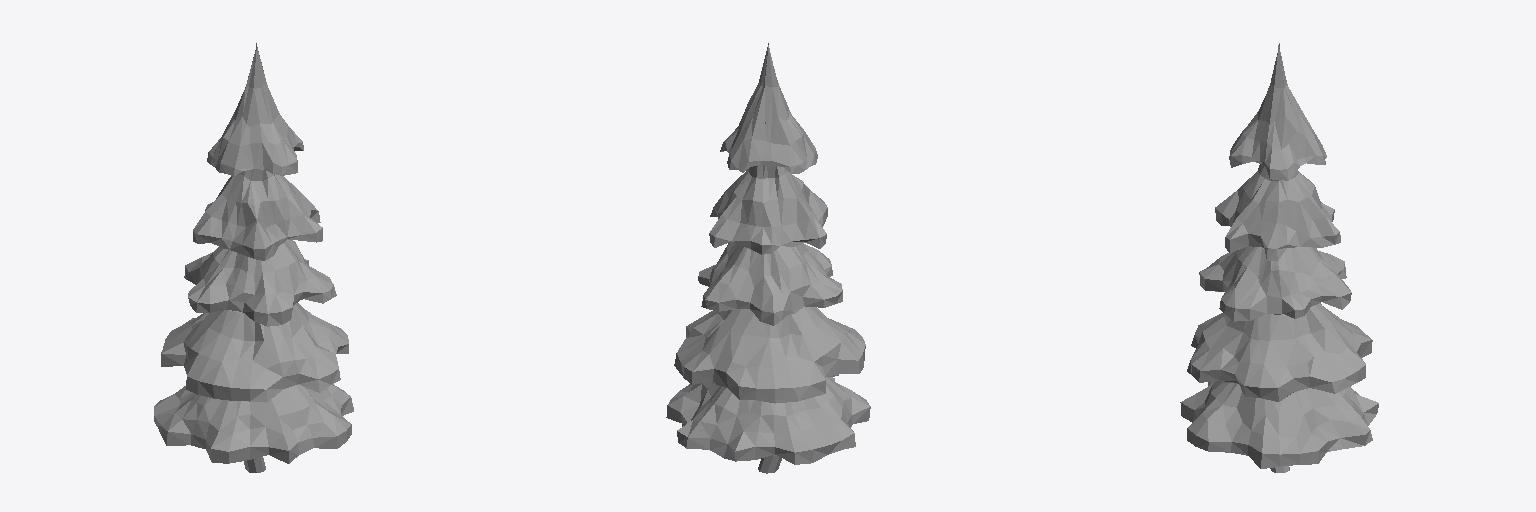
The model's file is Tree_LOD_One.obj.
3 renders of one model, left to right at view 1: azimuth 30°, elevation 25°; view 2: azimuth 150°, elevation 25°; view 3: azimuth 270°, elevation 25°, orthographic.
Parts seen in each view (by area): view 1: _8_tree_Cube.007; view 2: _8_tree_Cube.007; view 3: _8_tree_Cube.007.
Part boxes in pixels (x1,y1,x2,y2): _8_tree_Cube.007: (154, 43, 353, 472); _8_tree_Cube.007: (666, 43, 870, 473); _8_tree_Cube.007: (1180, 43, 1378, 472).
Bounding box in the file's own units: 0.9411 × 2.16 × 0.9146.